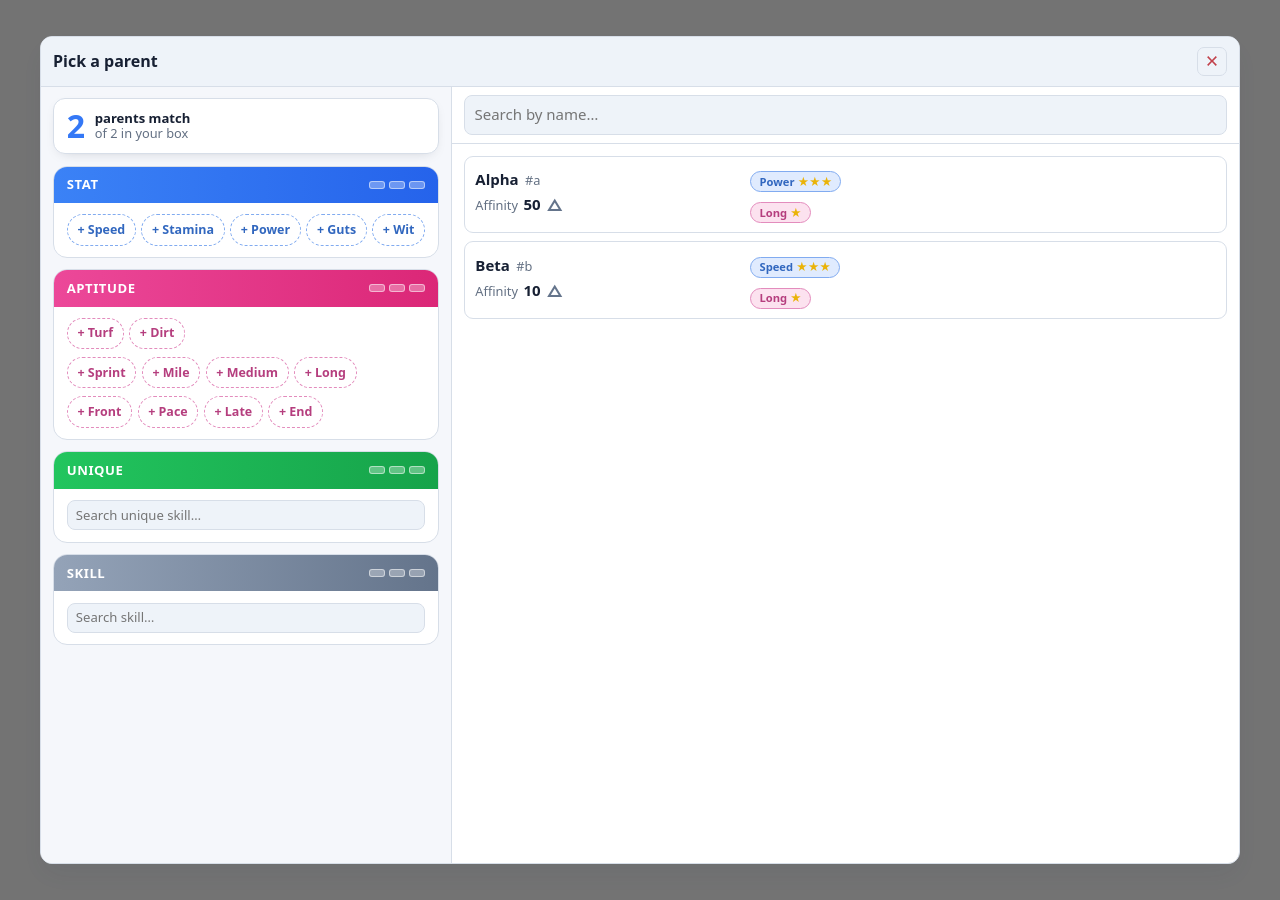
it: UmaPickerModal › enforces the 3-member budget — Power total 6 disables Stamina beyond 3★
Click the button "+ Power" at (265, 230), box [230,214,301,246]
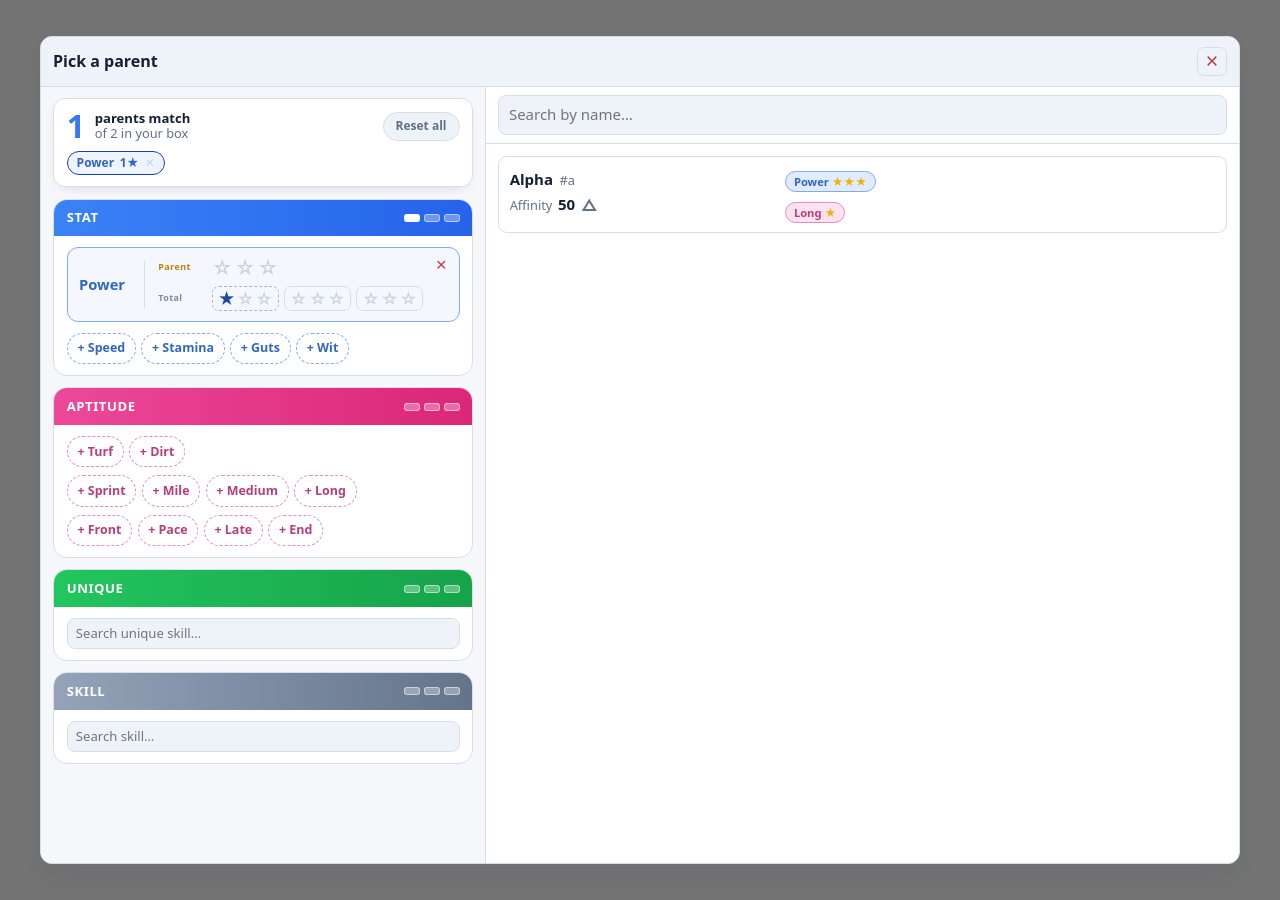
Click the button named "Power lineage 6" at (336, 298), box [327,290,345,307]
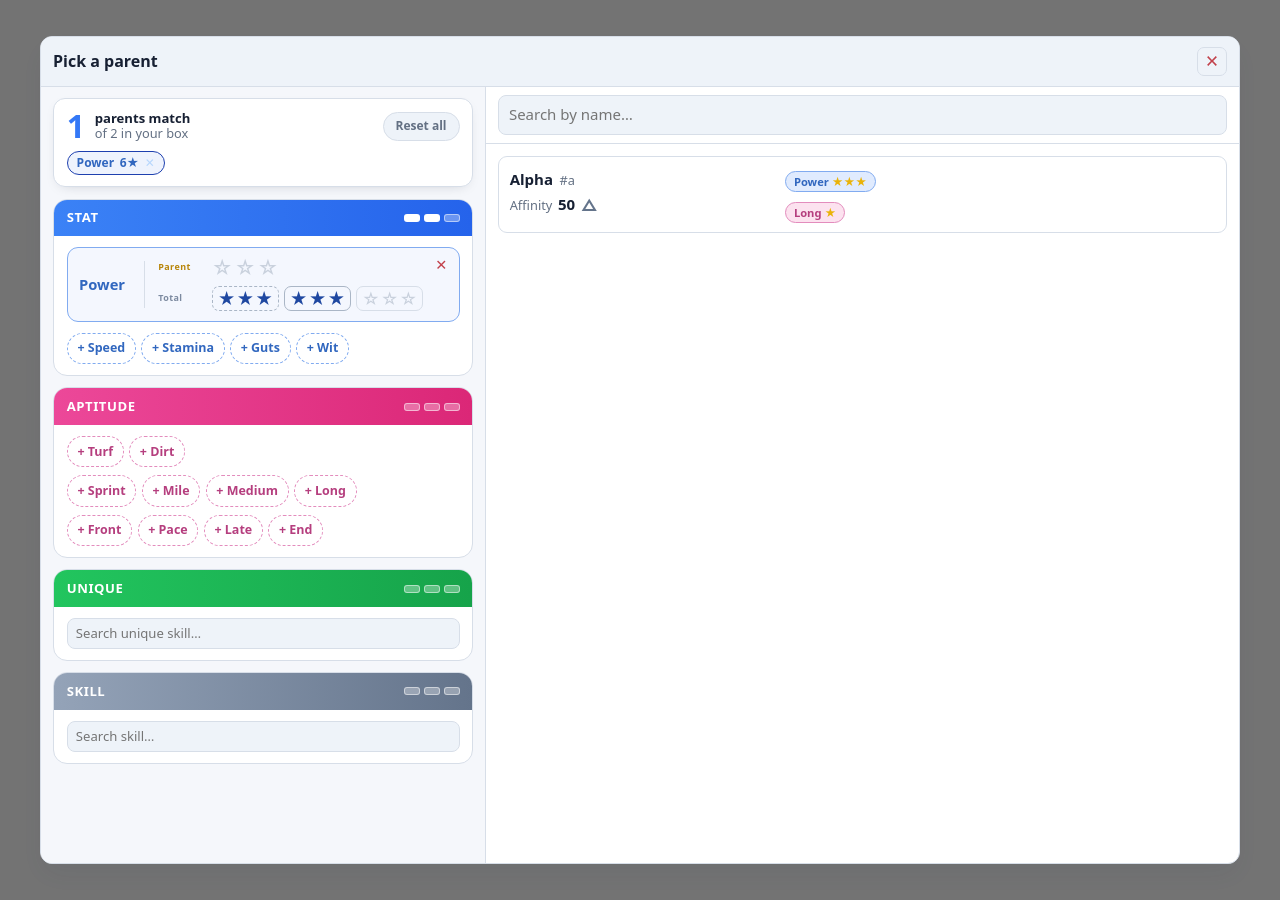
Click the button "+ Stamina" at (183, 348), box [141,333,225,364]
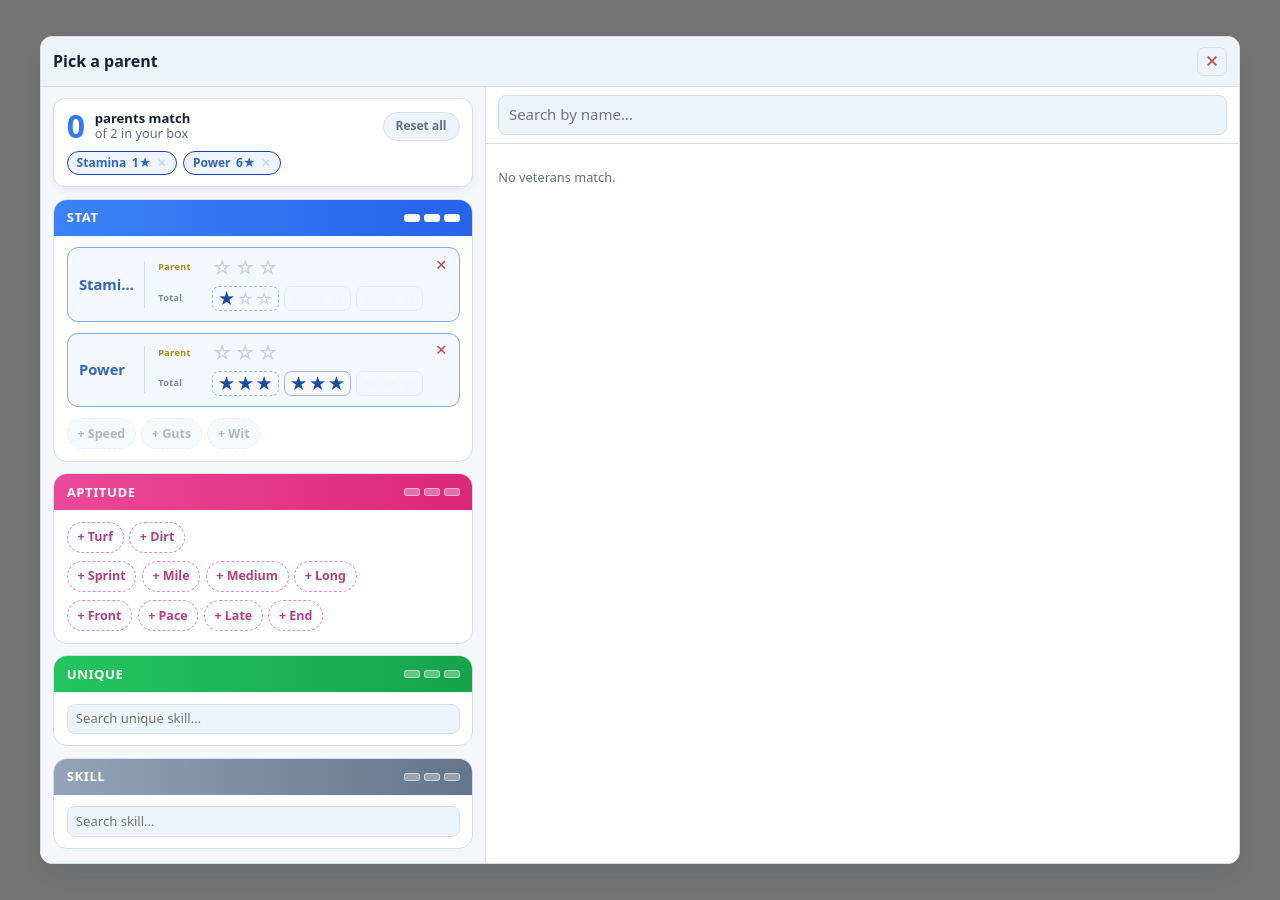
Expected: the button named "Stamina lineage 3" is enabled, [255,290,273,307]
